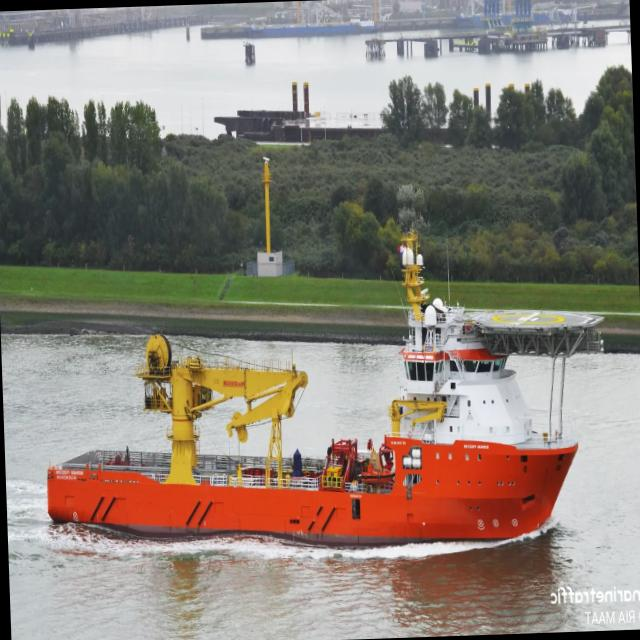Offshore: (47, 230, 601, 544)
